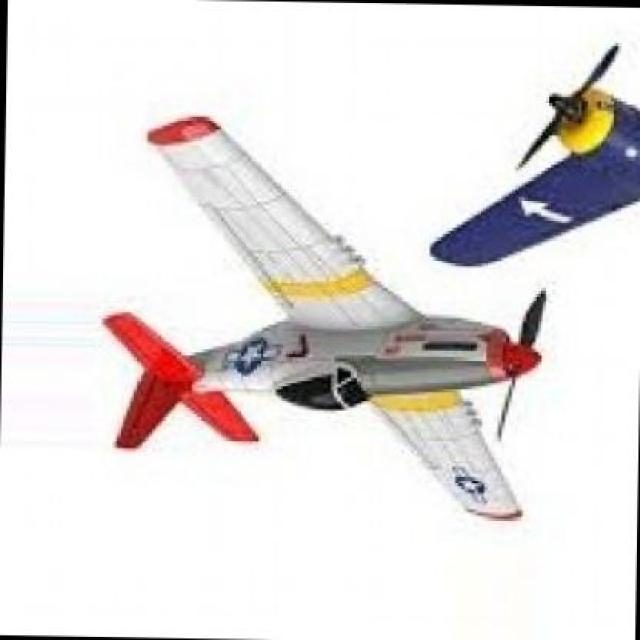iha: (82, 108, 559, 530)
